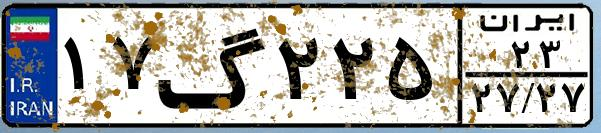1: (57, 26, 110, 100)
2: (270, 28, 330, 110), (330, 28, 385, 110), (508, 27, 537, 80), (470, 70, 495, 125), (535, 70, 560, 125)
3: (537, 27, 568, 80)
5: (385, 28, 445, 110)
7: (110, 28, 156, 98), (560, 70, 590, 125), (495, 70, 520, 125)
گ: (156, 12, 270, 120)
